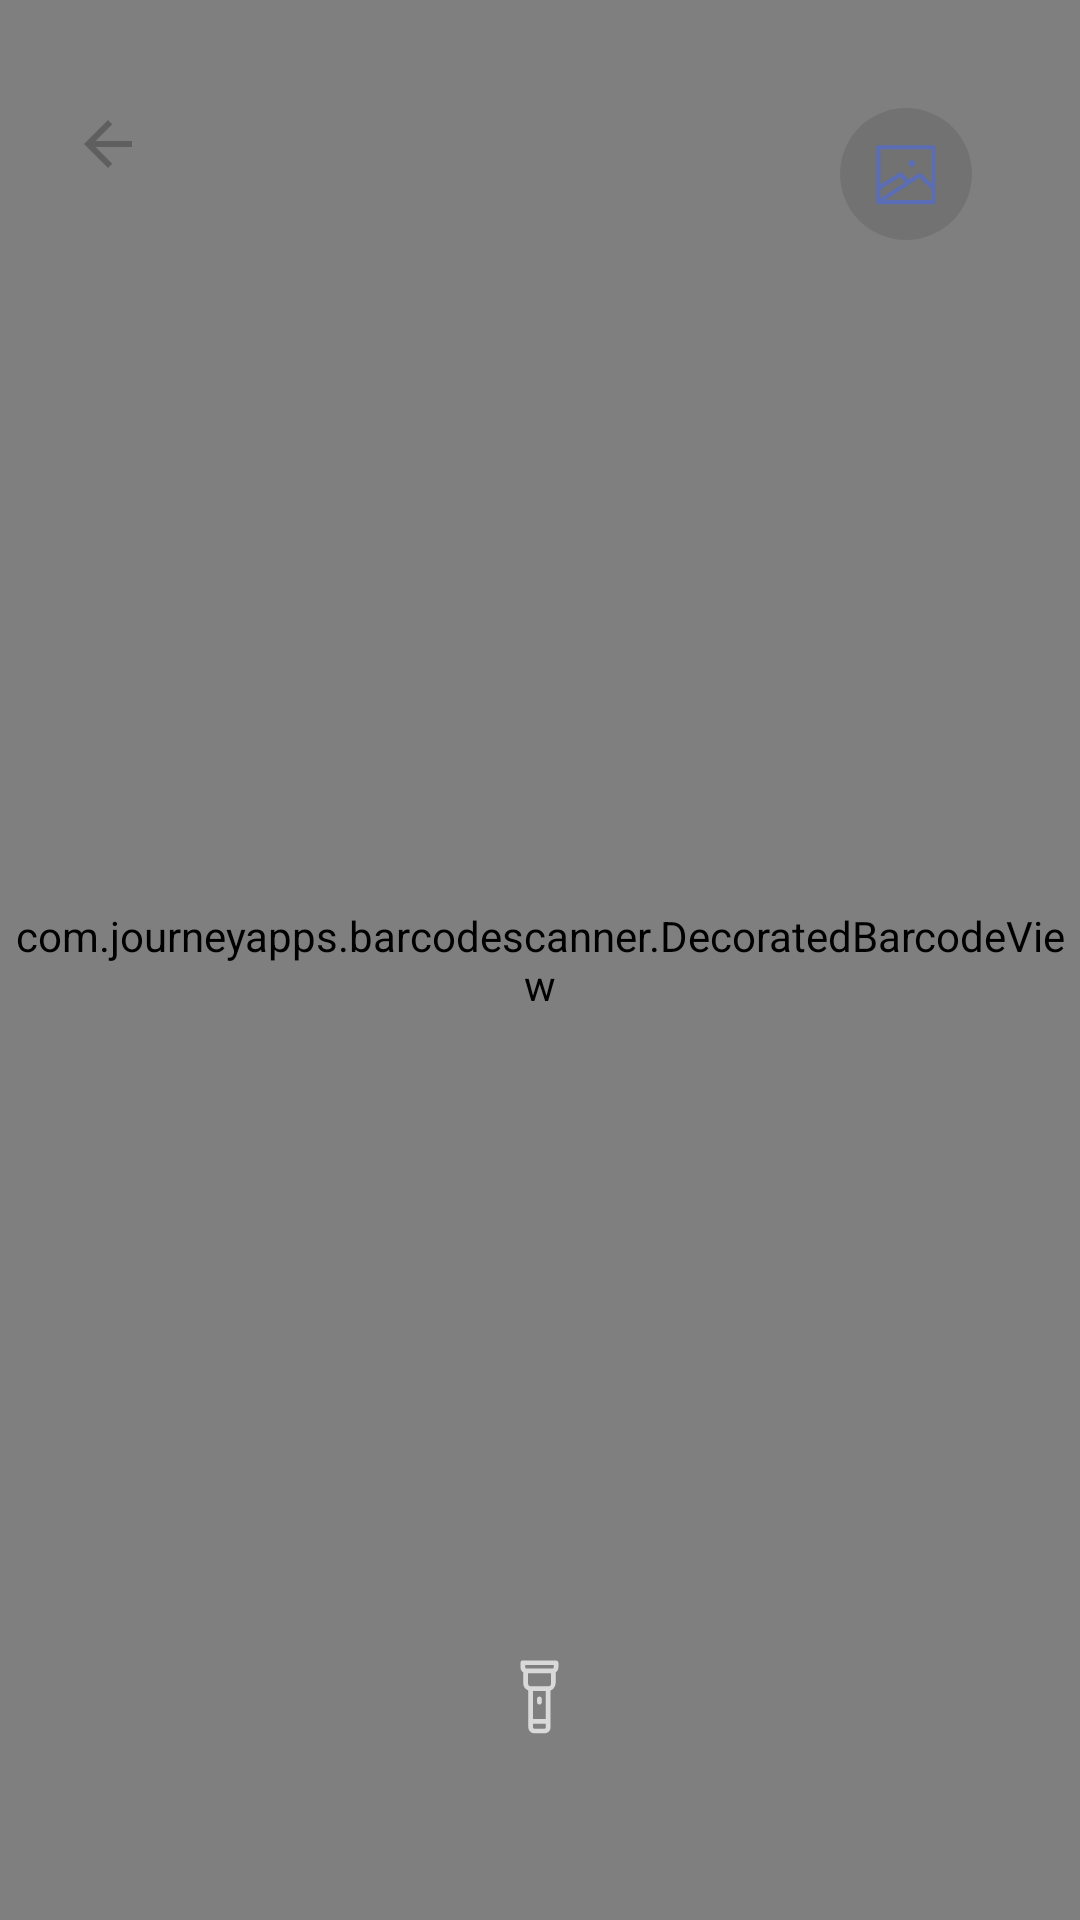

Point at icon controls on the screen. Image size 1080w x 1920h, points as [x,y].
arrow: [108,144]
gallery: [906,174]
